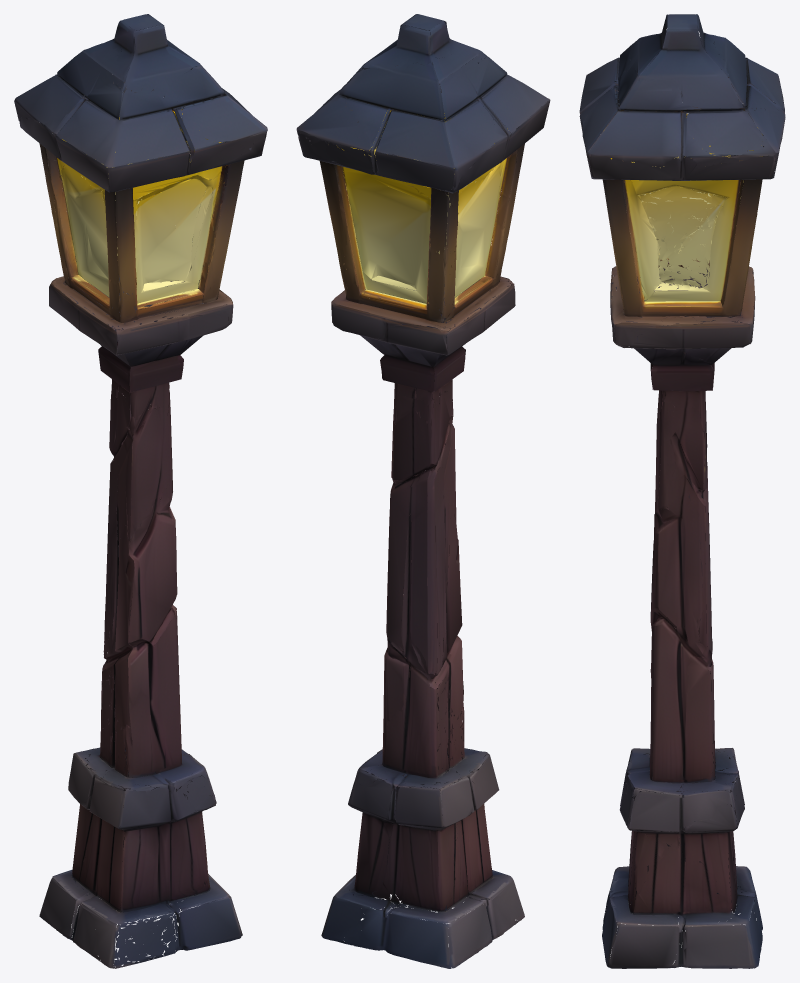
File: StreetLamp.fbx
3 renders of one model, left to right at view 1: azimuth 30°, elevation 25°; view 2: azimuth 150°, elevation 25°; view 3: azimuth 270°, elevation 25°, orthographic.
Visible parts, largest first — view 1: Lamp_Model; view 2: Lamp_Model; view 3: Lamp_Model.
Part boxes in pixels (bbox=[...]): Lamp_Model: bbox=[14, 14, 267, 968]; Lamp_Model: bbox=[296, 14, 550, 968]; Lamp_Model: bbox=[579, 14, 785, 968].
Size of the model in its own units: 80.37 by 400 by 81.43.
Materials: 1 (1 with a texture image).
